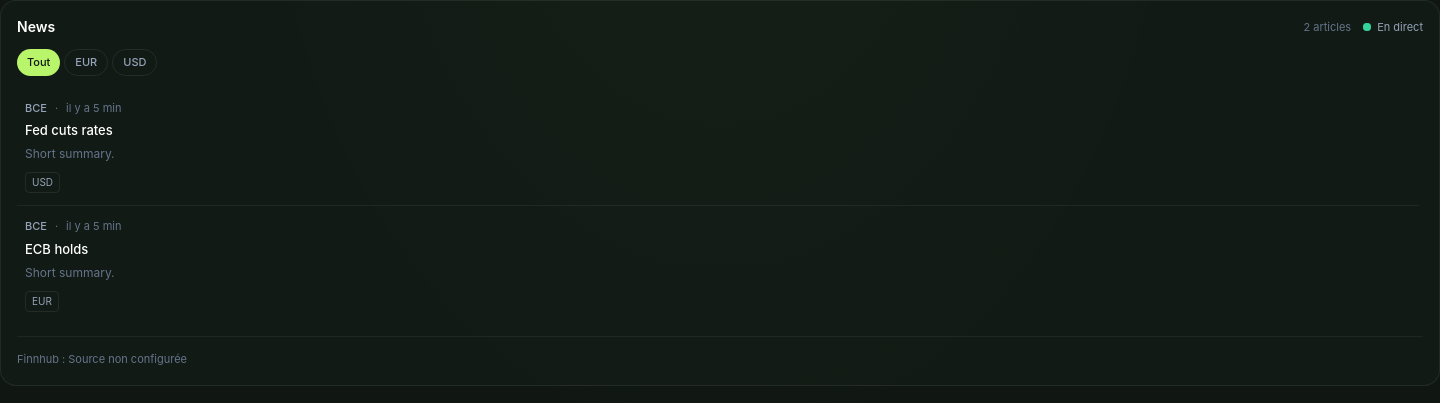
Scenario: NewsPanel › affiche les news, l'indicateur En direct et filtre par devise
The width and height of the screenshot is (1440, 403).
Expected: the heading "Fed cuts rates" is shown, 25,121 -> 308,138
Expected: the text "En direct" is shown, 1363,19 -> 1423,35
Step 1. Click the button "EUR" → coordinates (86, 62), box 64,49 -> 108,76
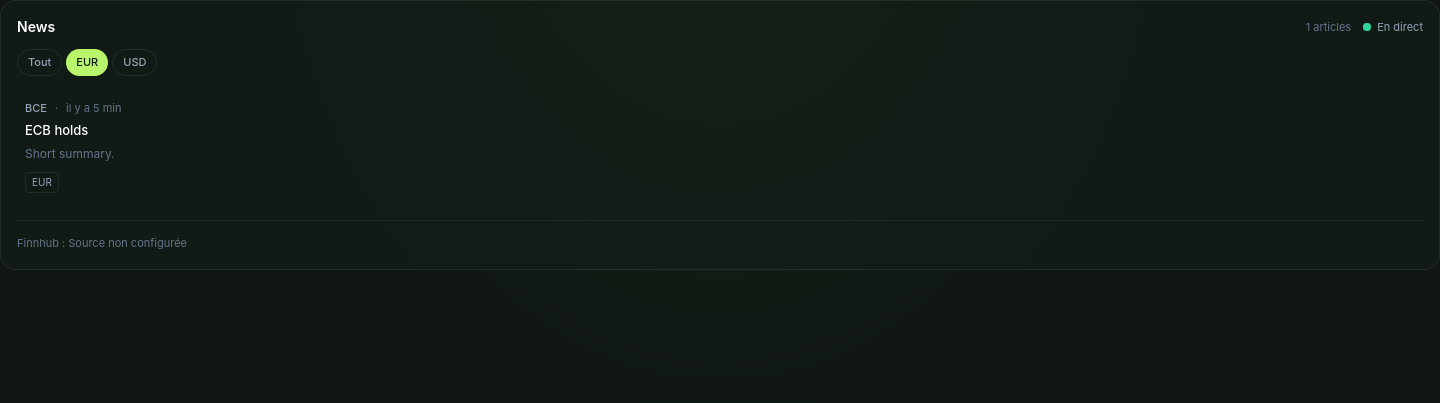
Expected: the heading "ECB holds" is shown, 25,121 -> 284,138
Result: the link "Fed cuts rates" is gone
